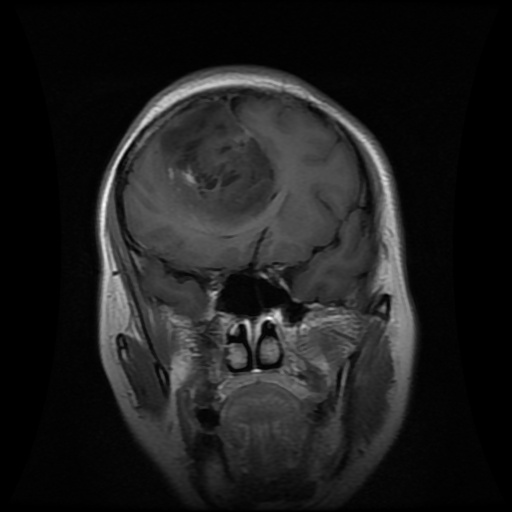glioma: (160, 98, 276, 221)
